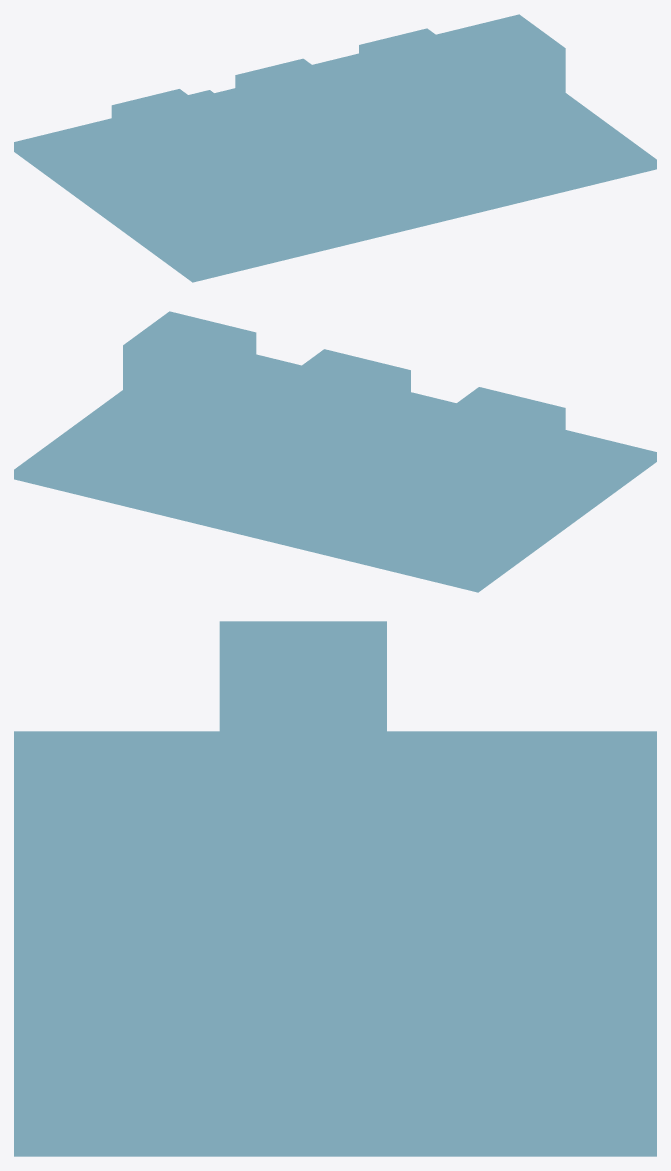
The model's file is factory-layout.glb.
3 views of the same model, one above another, from view 1: azimuth 30°, elevation 25°; view 2: azimuth 150°, elevation 25°; view 3: azimuth 270°, elevation 25° (orthographic). The views are drawn at different scales.
Visible parts, largest first — view 1: derived-factory-layout; view 2: derived-factory-layout; view 3: derived-factory-layout.
Boxes of the visible parts, x1,y1,x2,y2 form: derived-factory-layout: (14, 14, 656, 282); derived-factory-layout: (14, 311, 656, 592); derived-factory-layout: (14, 621, 656, 1156).
Bounding box in the file's own units: 15 × 2.7 × 10.
